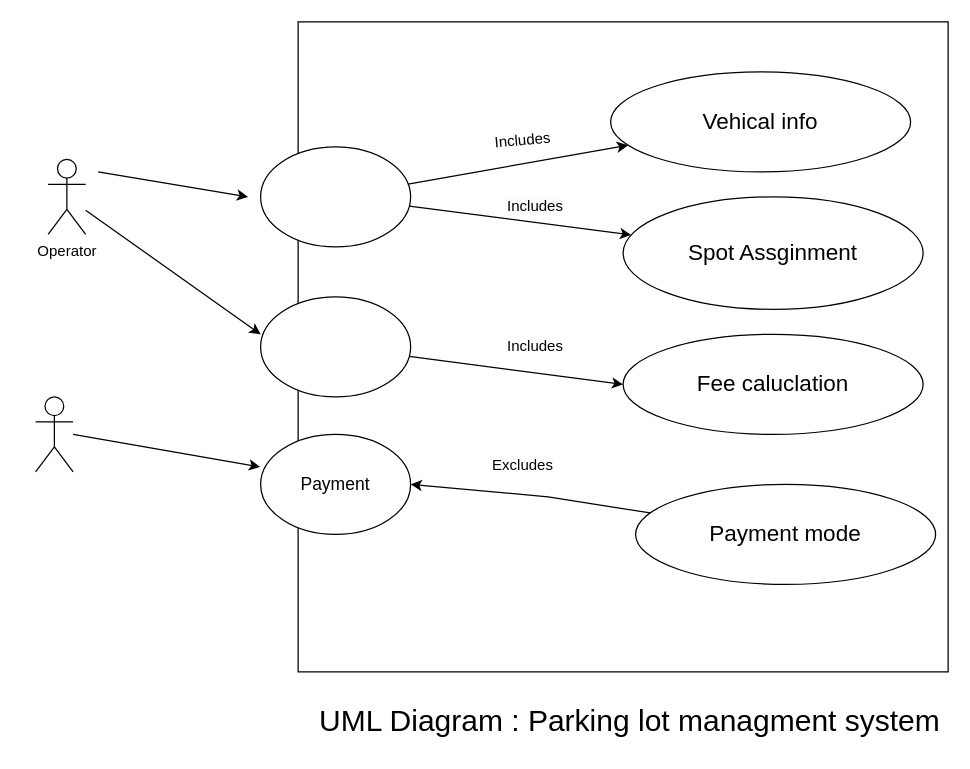
Some shapes in this 970 by 769 pixel diagram are drawn without their labels. The shapes that lost their labels are listed below. From the top down, each one's centre as x and y in pixels, then its label:
At (x=335, y=196): "Ticket".
At (x=335, y=346): "BillGeneration".
At (x=53, y=434): "Costumer".
